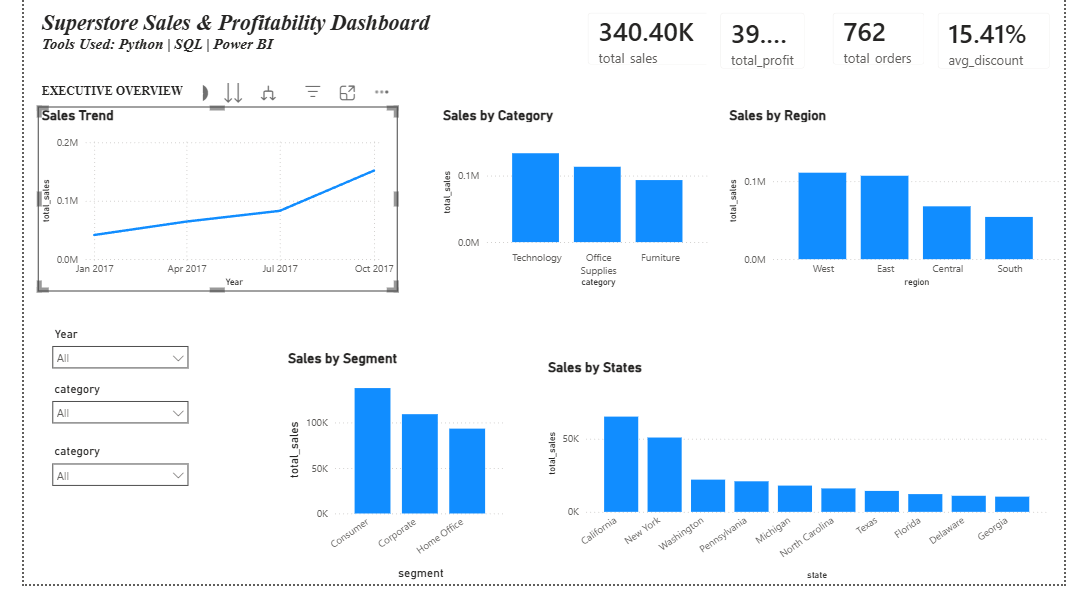

This screenshot's page, from the dashboard's own definition file:
{"tool":"powerbi","page":{"name":"Page 1","canvas":[1280,720],"ordinal":0},"visuals":[{"type":"cardVisual","title":"total_sales","fields":{"Data":["cleaned_superstore.total_sales"]},"box":[676.9,0,186.2,98.5],"z":0},{"type":"cardVisual","title":"total_profit","fields":{"Data":["cleaned_superstore.total_profit"]},"box":[840,0,138.5,103.1],"z":1},{"type":"cardVisual","title":"total_orders ","fields":{"Data":["cleaned_superstore.total_orders"]},"box":[978.5,0,147.7,98.5],"z":2},{"type":"cardVisual","title":"avg_discount","fields":{"Data":["cleaned_superstore.avg_discount"]},"box":[1107.7,0,172.3,103.1],"z":3},{"type":"clusteredColumnChart","title":"Sales by Category","fields":{"Category":["cleaned_superstore.category"],"Y":["cleaned_superstore.total_sales"]},"box":[510.8,132.3,338.5,227.7],"z":5},{"type":"clusteredColumnChart","title":"Sales by Region","fields":{"Y":["cleaned_superstore.total_sales"],"Category":["cleaned_superstore.region"]},"box":[863.1,132.3,416.9,227.7],"z":9},{"type":"clusteredColumnChart","title":"Sales by Segment","fields":{"Y":["cleaned_superstore.total_sales"],"Category":["cleaned_superstore.segment"]},"box":[320,432.3,278.5,287.7],"z":10},{"type":"clusteredColumnChart","title":"Sales by States","fields":{"Category":["cleaned_superstore.state"],"Y":["cleaned_superstore.total_sales"]},"box":[640,443.1,624.6,276.9],"z":11},{"type":"lineChart","title":"Sales Trend","fields":{"Y":["cleaned_superstore.total_sales"],"Category":["cleaned_superstore.order_date.Variation.Date Hierarchy.Year","cleaned_superstore.order_date.Variation.Date Hierarchy.Quarter","cleaned_superstore.order_date.Variation.Date Hierarchy.Month","cleaned_superstore.order_date.Variation.Date Hierarchy.Day"]},"box":[16.9,132.3,443.1,227.7],"z":12},{"type":"slicer","fields":{"Values":["cleaned_superstore.category"]},"box":[16.9,460,187.7,66.2],"z":13},{"type":"textbox","box":[16.9,9.2,493.8,81.5],"z":14},{"type":"slicer","fields":{"Values":["cleaned_superstore.order_date.Variation.Date Hierarchy.Year"]},"box":[16.9,526.2,187.7,64.6],"z":15},{"type":"slicer","fields":{"Values":["cleaned_superstore.category"]},"box":[16.9,590.8,187.7,66.2],"z":16},{"type":"textbox","box":[16.9,98.5,203.1,32.3],"z":17}]}

Visuals, with their boxes in screenshot pixels (x1, y1, x2, y2), scaled from the page's 1280x720 canvas onto the 1086x606 screenshot:
"total_sales" cardVisual: [x1=574, y1=0, x2=732, y2=83]
"total_profit" cardVisual: [x1=713, y1=0, x2=830, y2=87]
"total_orders " cardVisual: [x1=830, y1=0, x2=956, y2=83]
"avg_discount" cardVisual: [x1=940, y1=0, x2=1085, y2=87]
"Sales by Category" clusteredColumnChart: [x1=433, y1=111, x2=721, y2=303]
"Sales by Region" clusteredColumnChart: [x1=732, y1=111, x2=1085, y2=303]
"Sales by Segment" clusteredColumnChart: [x1=272, y1=364, x2=508, y2=605]
"Sales by States" clusteredColumnChart: [x1=543, y1=373, x2=1073, y2=605]
"Sales Trend" lineChart: [x1=14, y1=111, x2=390, y2=303]
slicer - cleaned_superstore.category: [x1=14, y1=387, x2=174, y2=443]
textbox: [x1=14, y1=8, x2=433, y2=76]
slicer - cleaned_superstore.order_date.Variation.Date Hierarchy.Year: [x1=14, y1=443, x2=174, y2=497]
slicer - cleaned_superstore.category: [x1=14, y1=497, x2=174, y2=553]
textbox: [x1=14, y1=83, x2=187, y2=110]
